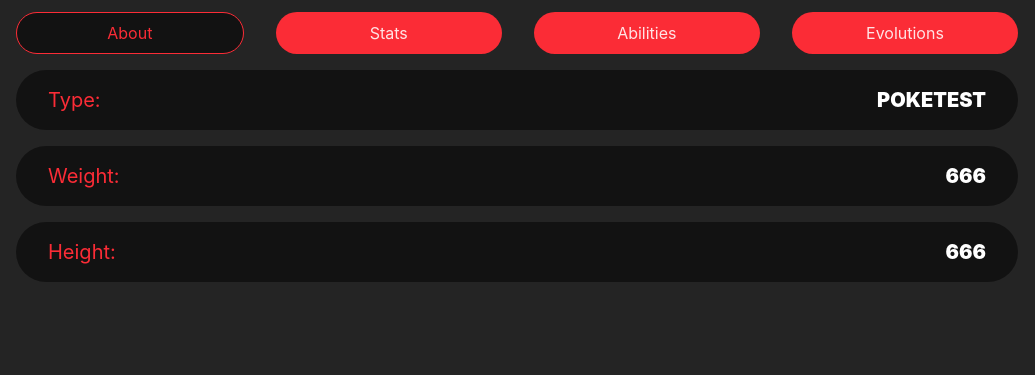
Scenario: Should show stats content when click on stats
The width and height of the screenshot is (1035, 375).
Step 1. Click the button "Stats" → (389,33), box [276,12,502,54]
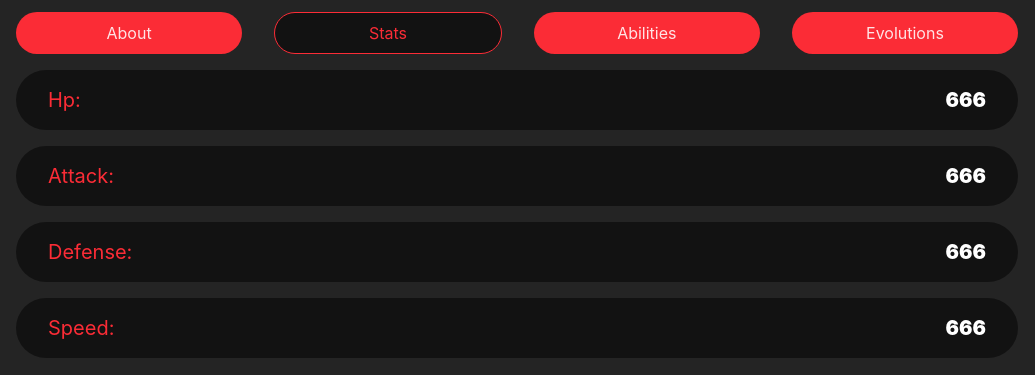
Expected: the heading "hp:" is shown, [48,86,81,114]
